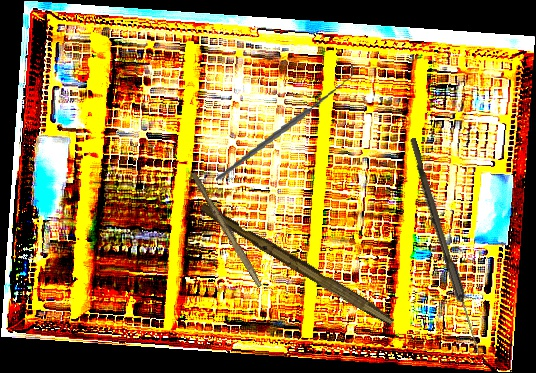Hook Surgical: (204, 65, 365, 182)
Scalpel Handle: (196, 201, 399, 327), (188, 171, 266, 288)
Surgical Spoon: (404, 137, 486, 356)
